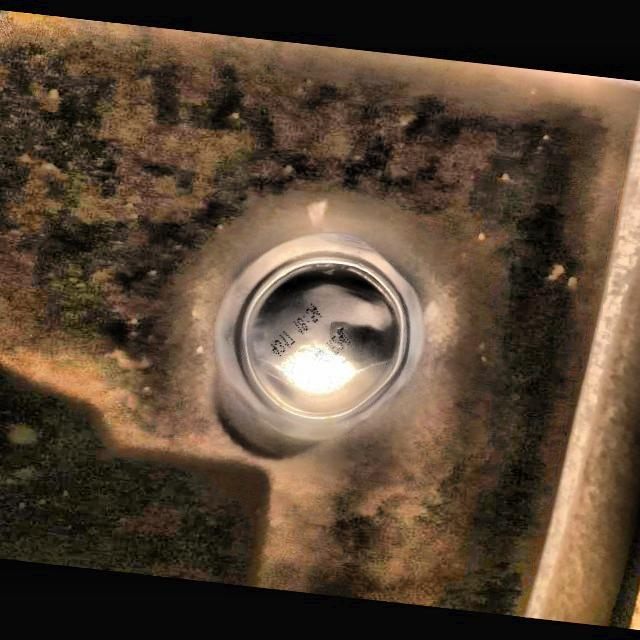pepsi-can: (210, 236, 414, 435)
